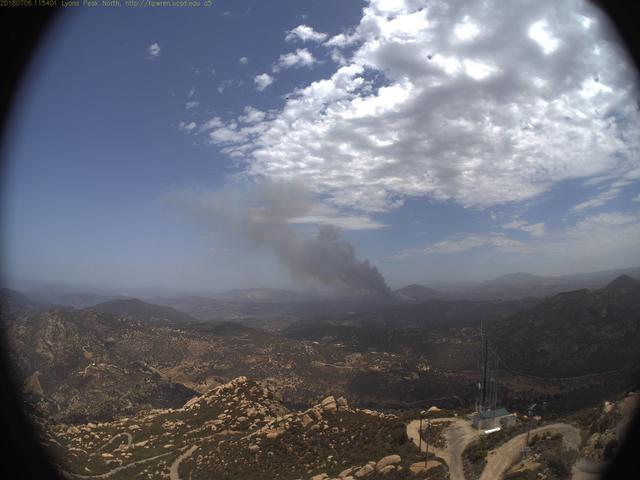smoke: (159, 167, 422, 321)
